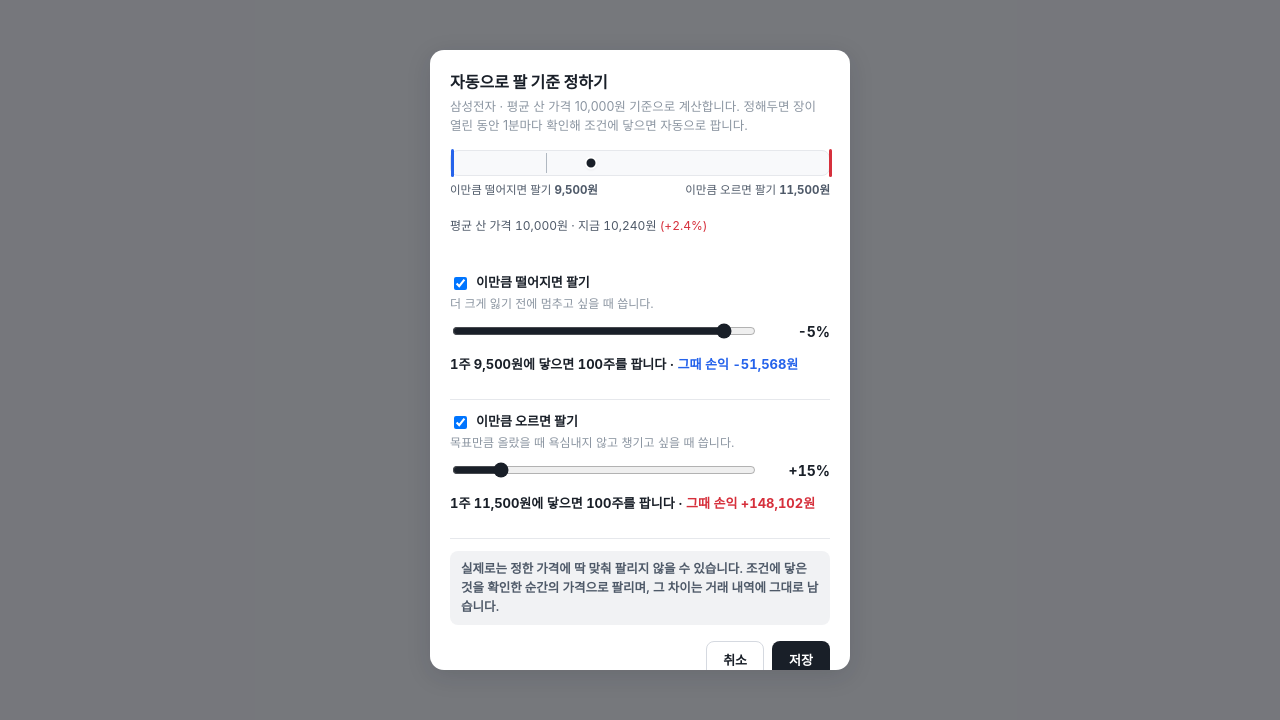
Test case: SellWallEditor — 퍼센트를 즉시 금액으로 환산(SPEC §8.1 #6) › 둘 다 끄면 저장 버튼이 잠기고 이유를 알려준다
Click the checkbox labelled "이만큼 떨어지면 팔기" at (460,284), box [454,277,467,290]
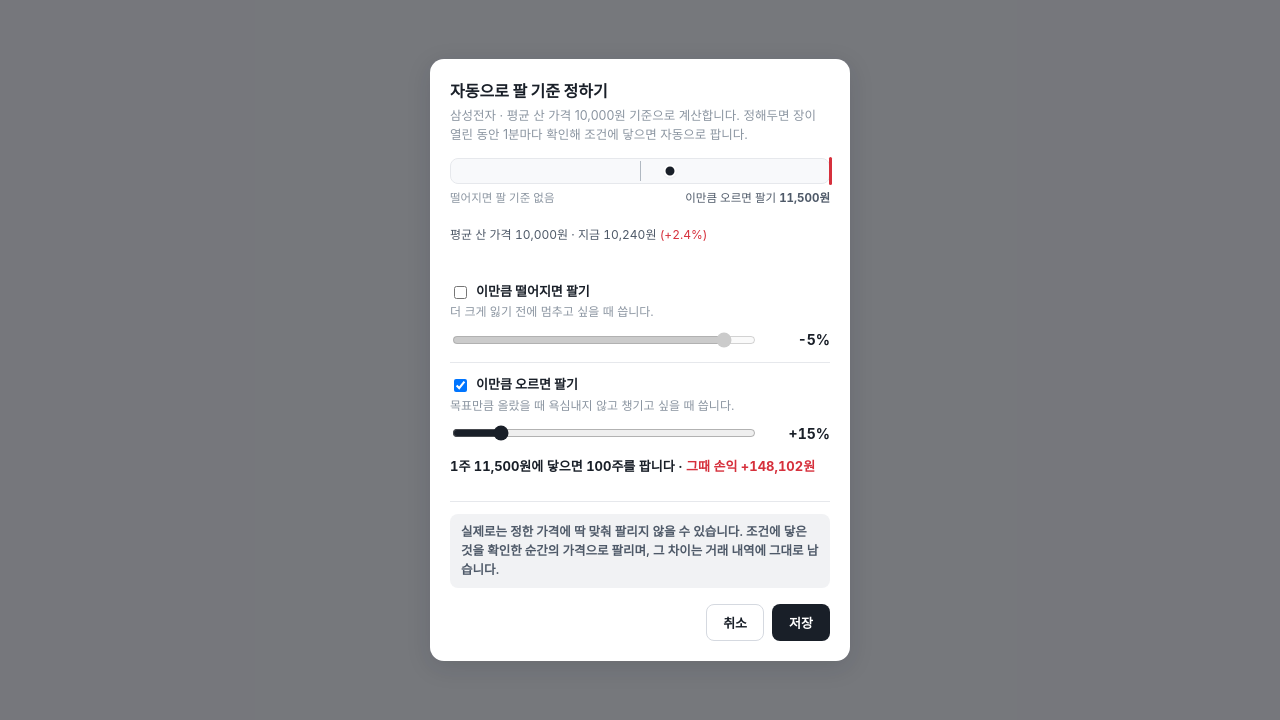
Click the checkbox labelled "이만큼 오르면 팔기" at (460,386), box [454,379,467,392]
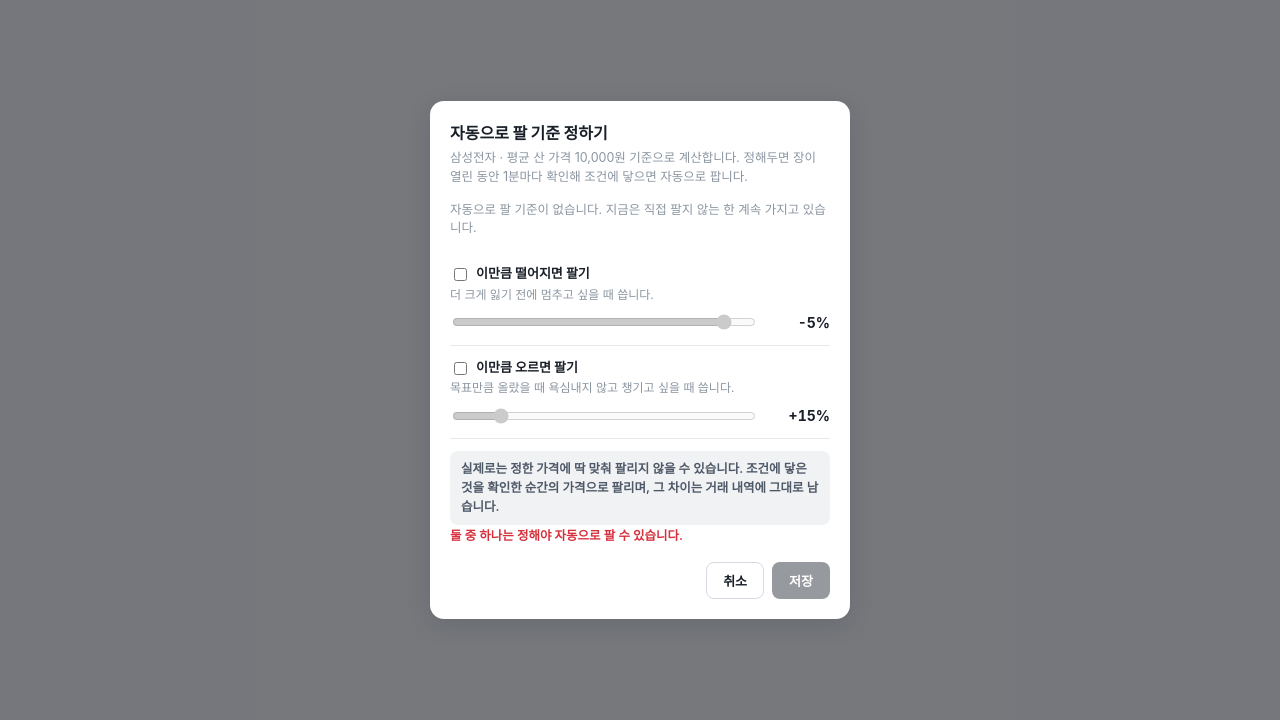
Check: the button "저장" is disabled, box [772,562,830,599]
Check: the text "둘 중 하나는 정해야 자동으로 팔 수 있습니다." is shown, box [450,528,683,543]
